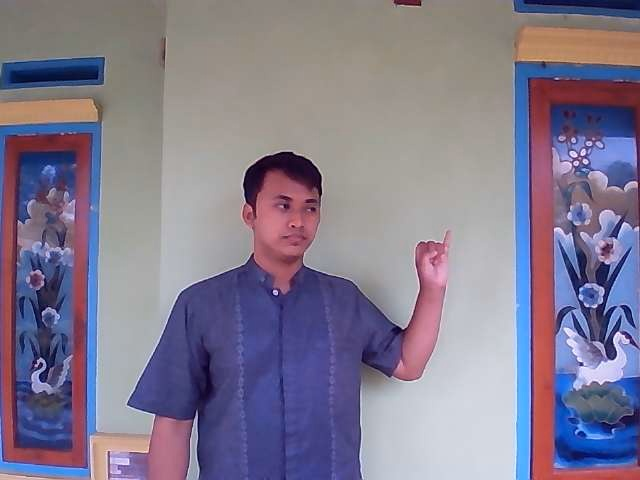I: (409, 226, 459, 304)
